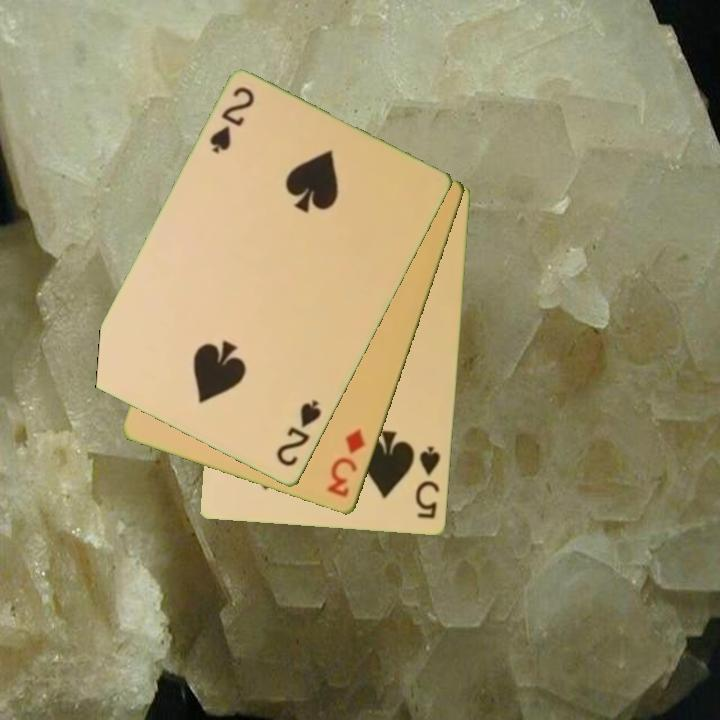2s: (273, 396, 325, 470), (206, 83, 258, 157)
3d: (324, 425, 369, 501)
5s: (412, 443, 444, 522)
